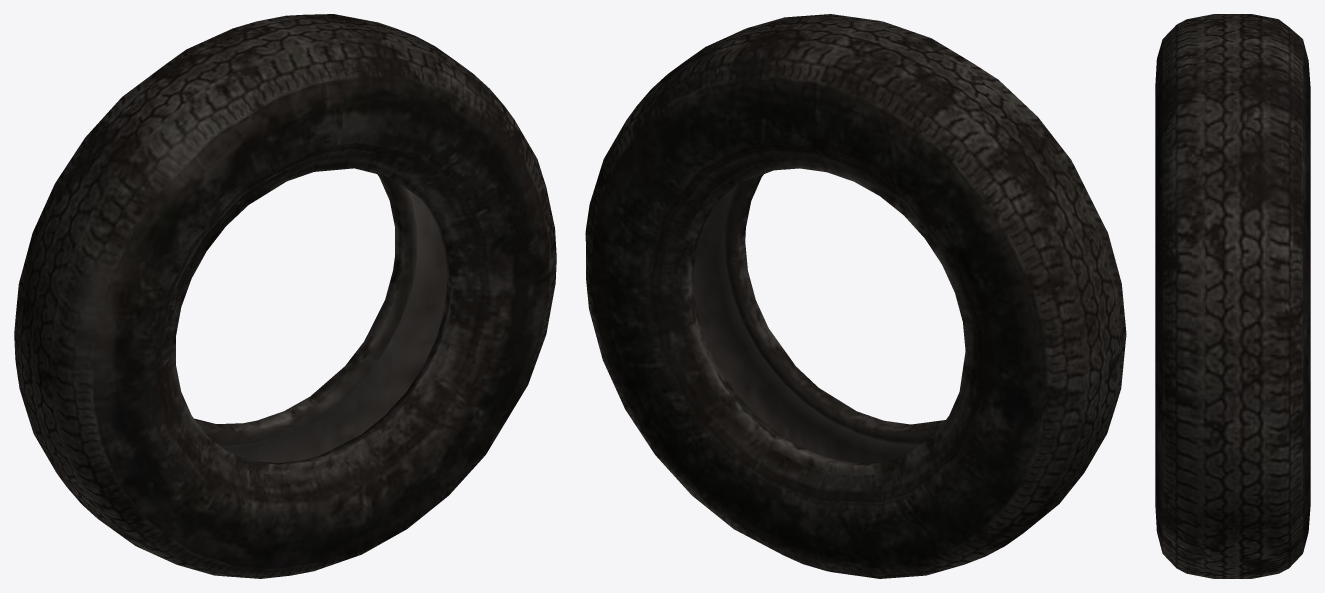
The model's file is old_tyre.gltf.
3 views of the same model, side by side, from view 1: azimuth 30°, elevation 25°; view 2: azimuth 150°, elevation 25°; view 3: azimuth 270°, elevation 25° (orthographic). The views are drawn at different scales.
Parts seen in each view (by area): view 1: old_tyre; view 2: old_tyre; view 3: old_tyre.
Boxes of the visible parts, box(x1,y1,x2,y2) form: old_tyre: box(14, 14, 556, 578); old_tyre: box(585, 14, 1126, 578); old_tyre: box(1155, 14, 1310, 578).
Size of the model in its own units: 0.6 by 0.6 by 0.165.
Materials: 1 (1 with a texture image).
